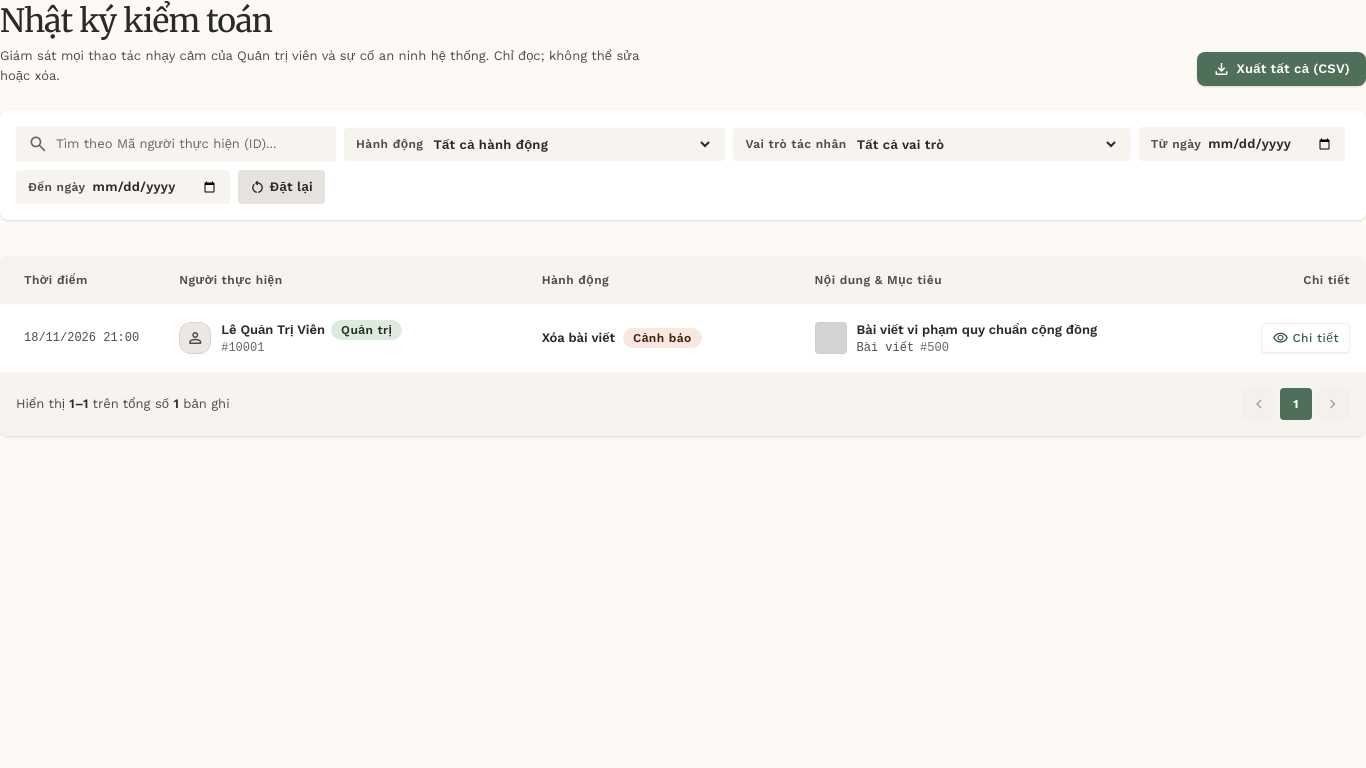
Scenario: AuditLogsPage Redesign (SCR-40 · 5-column refined layout) › bấm nút Chi tiết mở modal hiển thị đầy đủ avatar, tên đối tượng và ghi chú
Expected: the text "Lê Quản Trị Viên" is shown, [221, 320, 325, 340]
Click the button "Chi tiết".
click(1306, 338)  # box [1261, 323, 1350, 353]
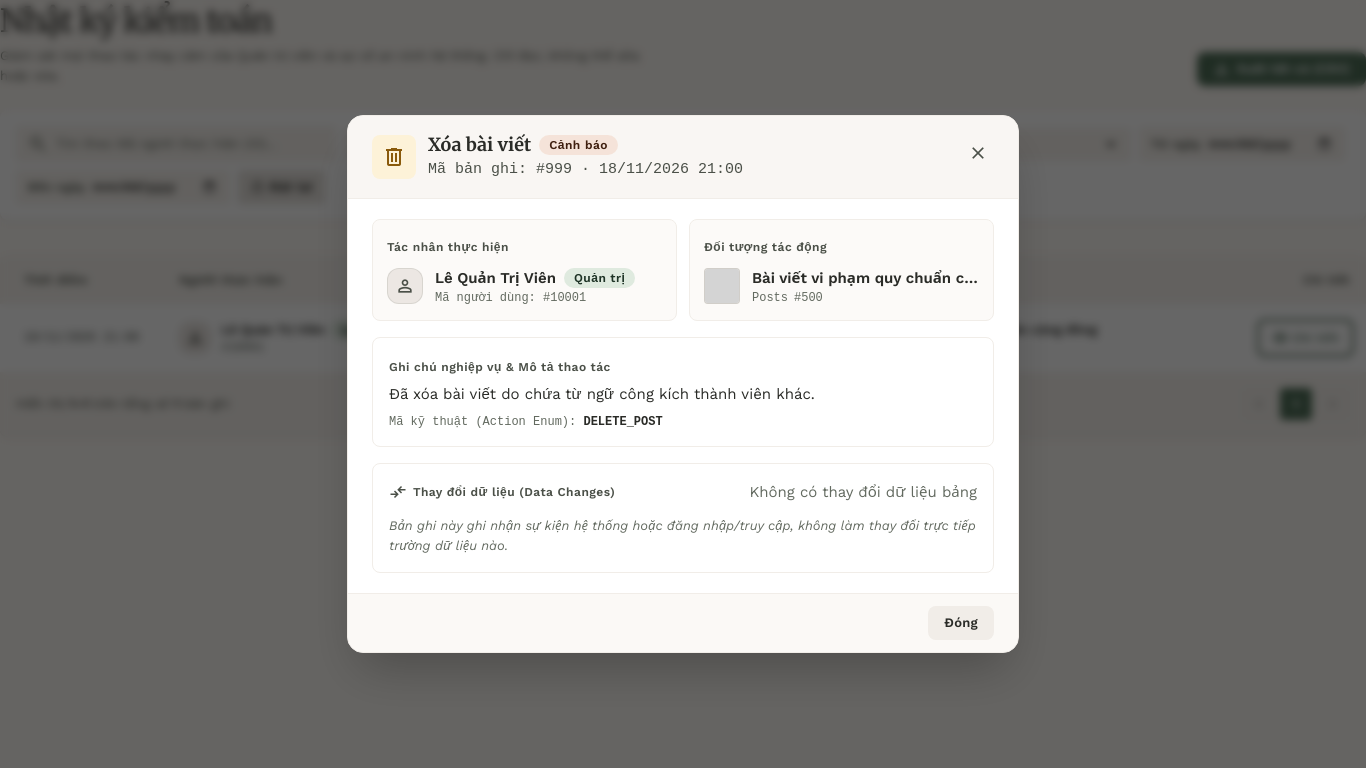
Expected: the dialog is shown
Expected: the text "Đã xóa bài viết do chứa từ ngữ công kích thành viên khác." is shown, [389, 385, 815, 403]
Expected: the text "Mã kỹ thuật (Action Enum):" is shown, [389, 415, 583, 429]
